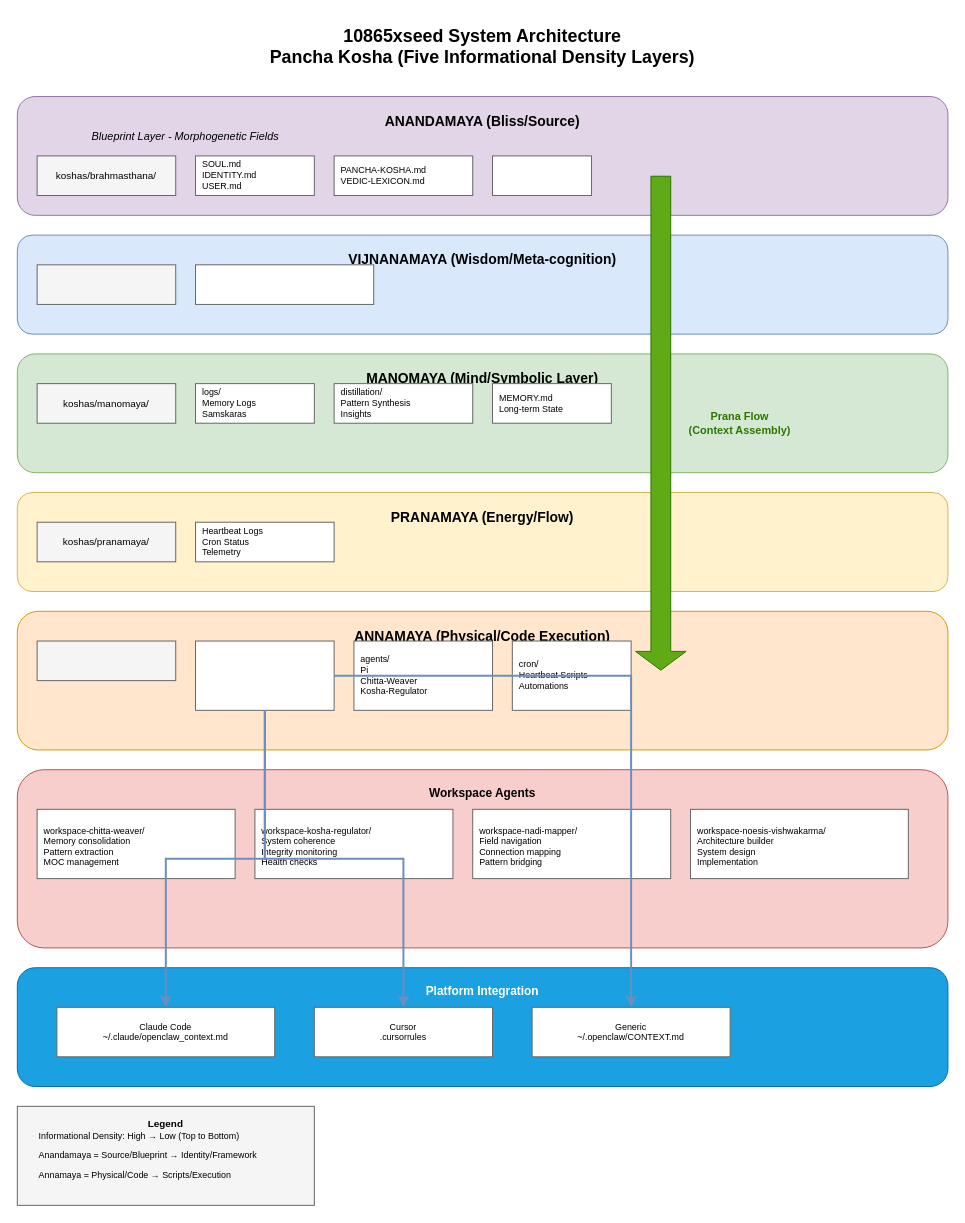
Image size: 965x1223. Some labels were removed from this diagram. Each missing label, with the centre of its shape:
"Architecture Specs Design Patterns System Blueprints" belongs at point (284, 284).
"KHA.md BHA.md LHA.md" belongs at point (542, 175).
"koshas/annamaya/" belongs at point (106, 660).
"koshas/vijnanamaya/" belongs at point (106, 284).
"scripts/ prana.py setup_openclaw.py openclaw_seed.py" belongs at point (264, 675).
